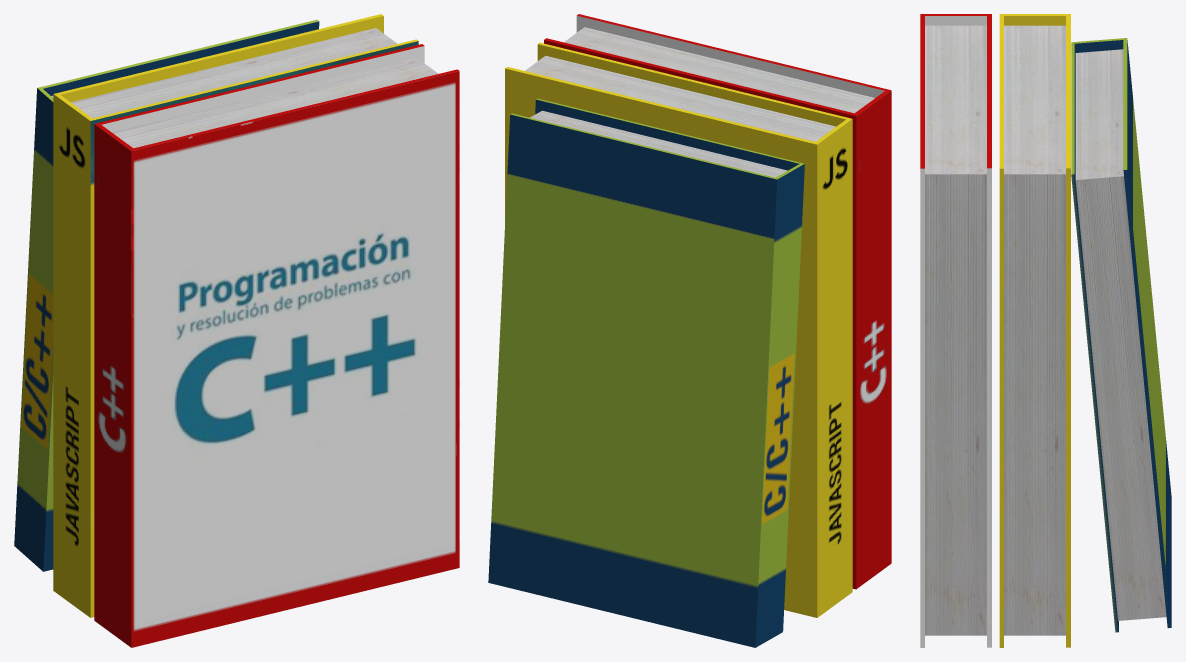
The model's file is Books 2.FBX.
The picture shows the model from 3 angles, left to right: view 1: azimuth 30°, elevation 25°; view 2: azimuth 150°, elevation 25°; view 3: azimuth 270°, elevation 25°; orthographic projection. The views are drawn at different scales.
Parts seen in each view (by area): view 1: Book 1, Book 3, Book 2; view 2: Book 2, Book 3, Book 1; view 3: Book 1, Book 3, Book 2.
Part boxes in pixels (left/top/right/bottom): Book 1: left=94, top=44, right=459, bottom=647; Book 3: left=53, top=14, right=418, bottom=617; Book 2: left=14, top=19, right=319, bottom=571; Book 2: left=488, top=98, right=804, bottom=647; Book 3: left=505, top=42, right=852, bottom=617; Book 1: left=544, top=14, right=891, bottom=589; Book 1: left=920, top=14, right=991, bottom=647; Book 3: left=999, top=14, right=1070, bottom=647; Book 2: left=1071, top=38, right=1171, bottom=632.
Size of the model in its own units: 15.2 by 22.02 by 10.43.
1 material, 1 textured.
